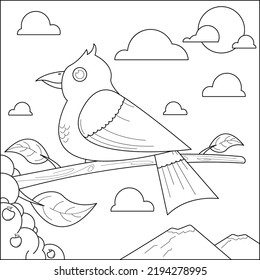bird: (34, 41, 224, 215)
